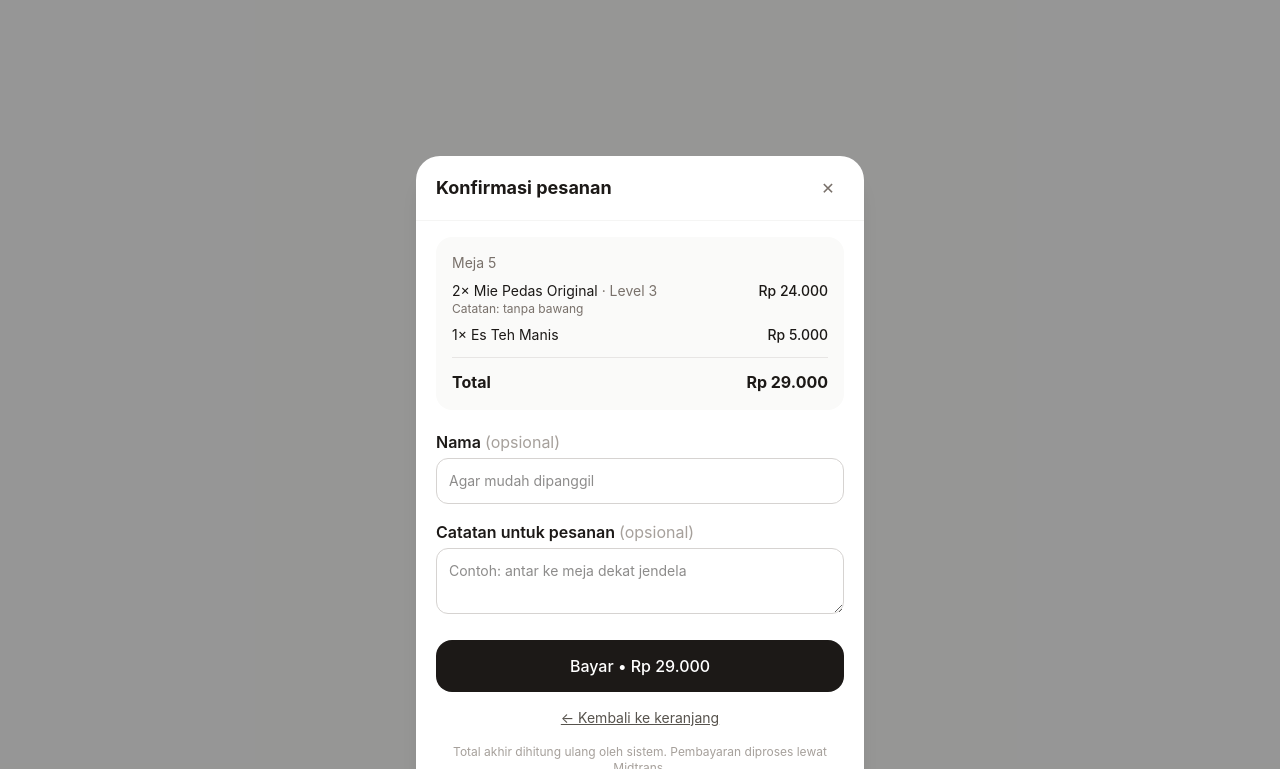
Test: CheckoutSheet › menolak pesanan dan menyebut menu yang tidak bisa dipesan (422)
Click the button "Bayar • Rp 29.000". click: [640, 666]
box: [436, 640, 844, 692]
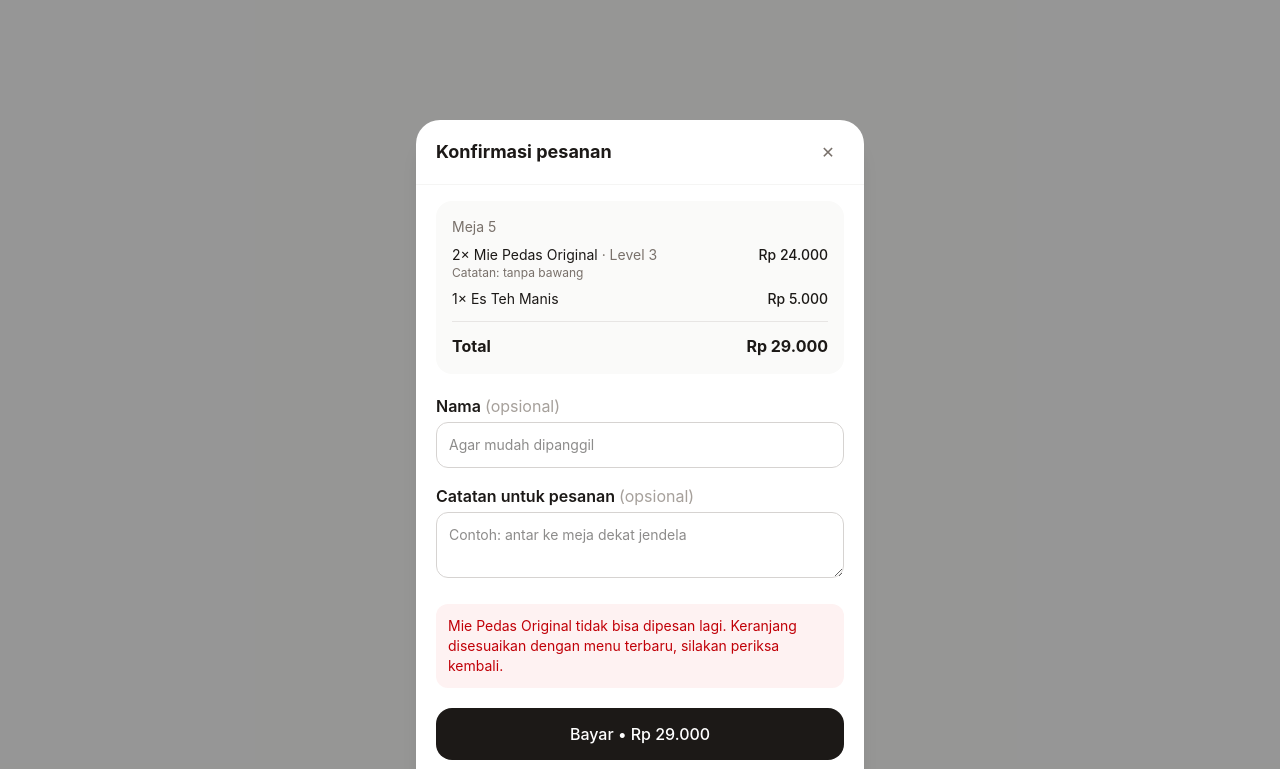
Check: the button "Bayar • Rp 29.000" is enabled, box [436, 708, 844, 760]
Check: the message shows "Mie Pedas Original tidak bisa dipesan lagi", box [448, 617, 797, 674]
